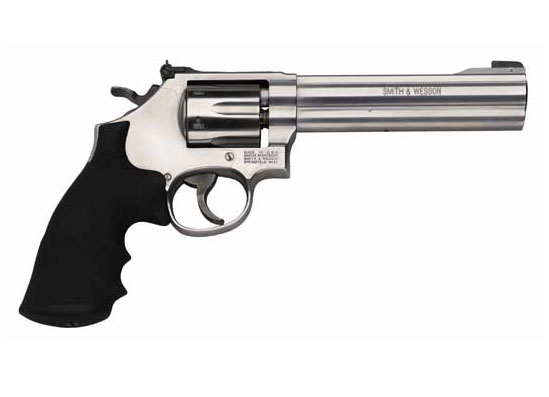Arma Real: (22, 59, 532, 329)
